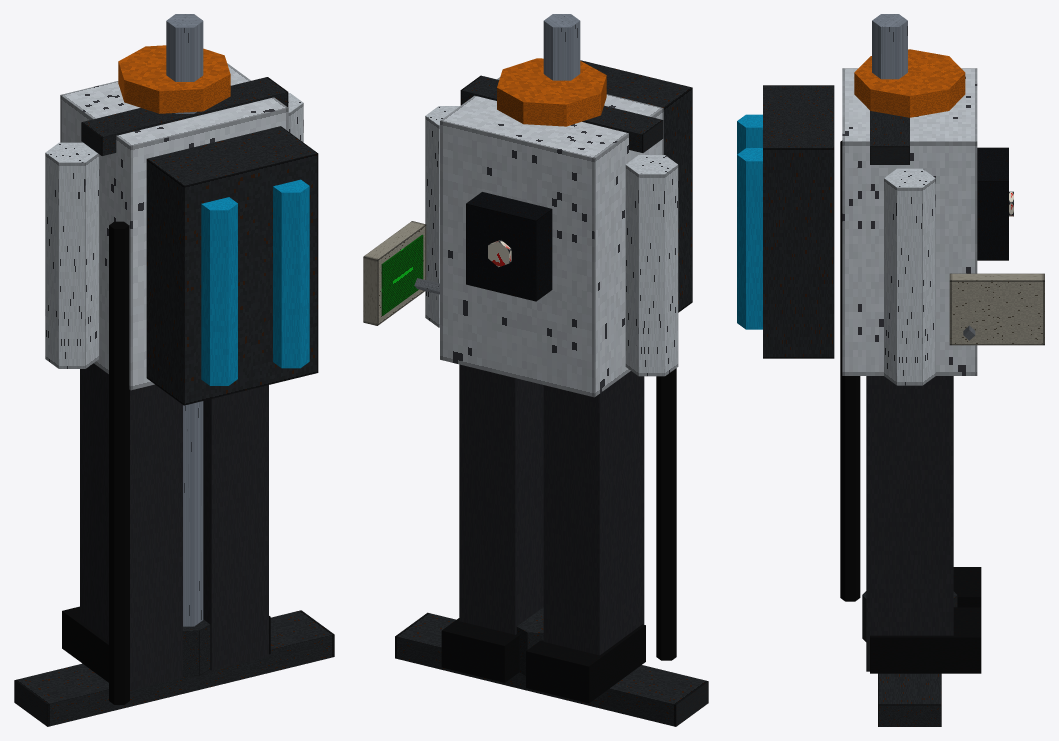
File: eva_suit_stand.glb
3 renders of one model, left to right at view 1: azimuth 30°, elevation 25°; view 2: azimuth 150°, elevation 25°; view 3: azimuth 270°, elevation 25°, orthographic. The views are drawn at different scales.
Visible parts, largest first — view 1: eva_suit_stand; view 2: eva_suit_stand; view 3: eva_suit_stand.
Part boxes in pixels (x1,y1,x2,y2): eva_suit_stand: [14, 14, 334, 726]; eva_suit_stand: [363, 14, 708, 726]; eva_suit_stand: [737, 14, 1044, 726].
Size of the model in its own units: 0.8 by 1.78 by 0.775.
1 material, 1 textured.
